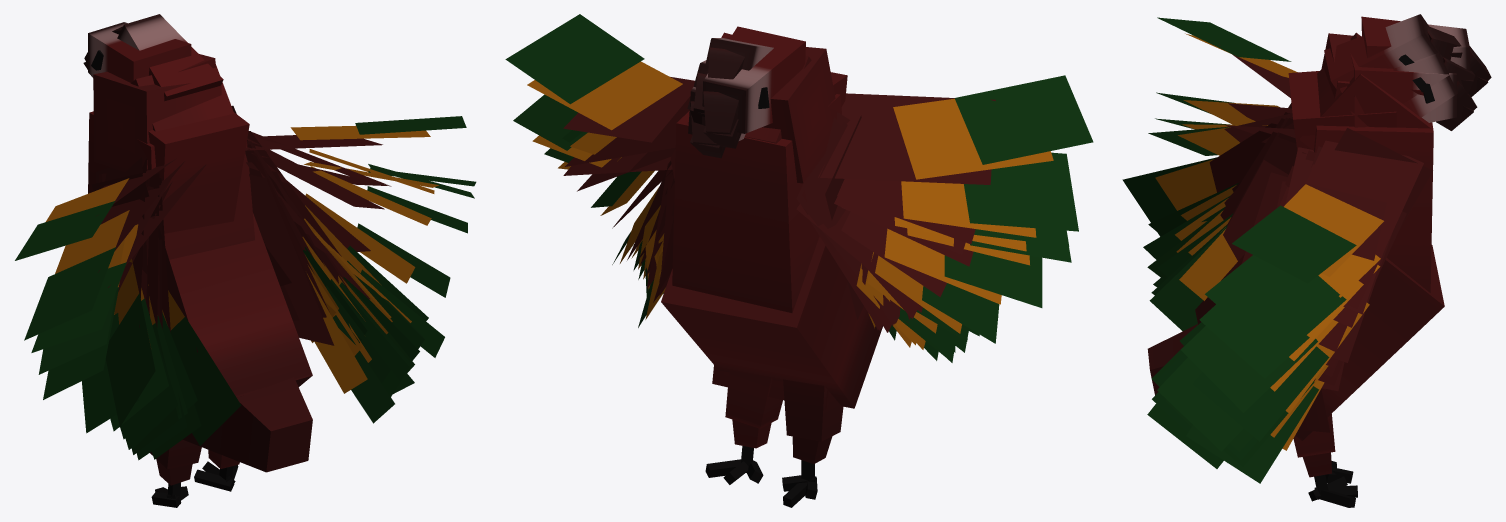
Rendered from Final_char_08_quill.fbx.
3 renders of one model, left to right at view 1: azimuth 30°, elevation 25°; view 2: azimuth 150°, elevation 25°; view 3: azimuth 270°, elevation 25°, orthographic. The views are drawn at different scales.
Visible parts, largest first — view 1: NewLayer0; view 2: NewLayer0; view 3: NewLayer0.
Part boxes in pixels (bbox=[...]): NewLayer0: bbox=[15, 14, 476, 507]; NewLayer0: bbox=[505, 14, 1093, 507]; NewLayer0: bbox=[1122, 14, 1491, 507].
Bounding box in the file's own units: 12.04 × 10.39 × 7.45.
